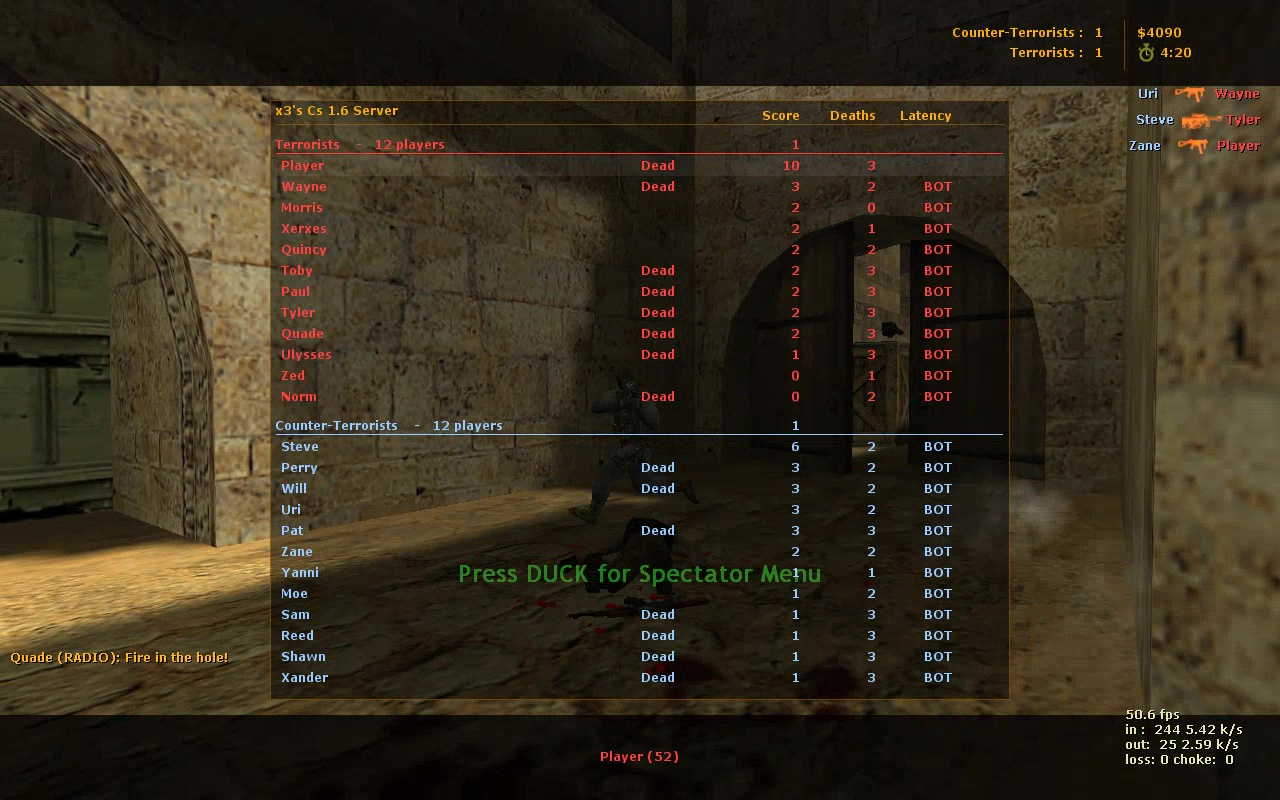ct: (571, 372, 698, 527)
